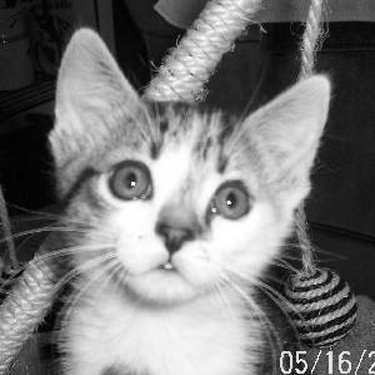cat: (49, 27, 332, 372)
